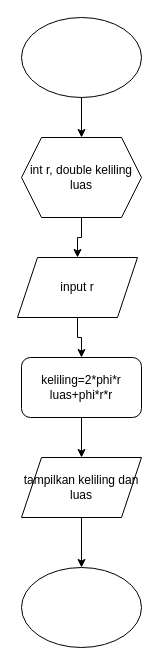
The diagram is 159 pixels wide and 665 high, and some of its shapes have lost their labels. Here are the shapes that lost their labels. From the top down, the box of each, then its label:
(20, 16, 142, 98): START
(20, 566, 142, 648): FINISH
